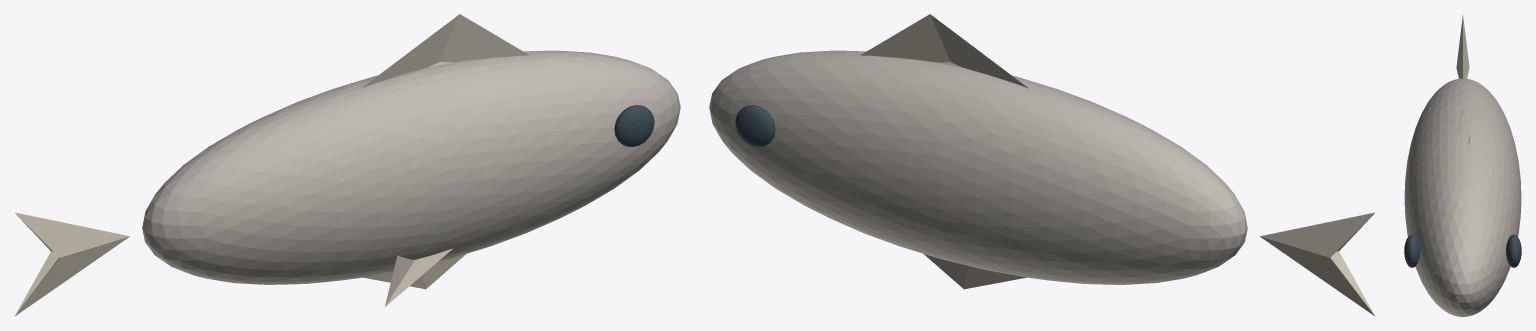
Rendered from Ikan_Gelama.glb.
3 views of the same model, side by side, from view 1: azimuth 30°, elevation 25°; view 2: azimuth 150°, elevation 25°; view 3: azimuth 270°, elevation 25° (orthographic). The views are drawn at different scales.
Visible parts, largest first — view 1: Part_00, Part_01, Part_02, Part_05, Part_04, Part_03; view 2: Part_00, Part_01, Part_02, Part_06, Part_03; view 3: Part_00, Part_01, Part_05, Part_06.
Boxes of the visible parts, <box> form: Part_00: <box>142,50,680,284</box>; Part_01: <box>14,212,129,316</box>; Part_02: <box>361,14,529,88</box>; Part_05: <box>614,105,654,146</box>; Part_04: <box>385,248,452,306</box>; Part_03: <box>363,254,465,289</box>; Part_00: <box>709,50,1247,284</box>; Part_01: <box>1260,212,1375,316</box>; Part_02: <box>860,14,1028,88</box>; Part_06: <box>735,105,775,146</box>; Part_03: <box>924,254,1026,289</box>; Part_00: <box>1404,78,1521,316</box>; Part_01: <box>1456,15,1469,78</box>; Part_05: <box>1404,234,1419,267</box>; Part_06: <box>1506,234,1521,267</box>.
Bounding box in the file's own units: 1.3 × 0.5005 × 0.2674.
